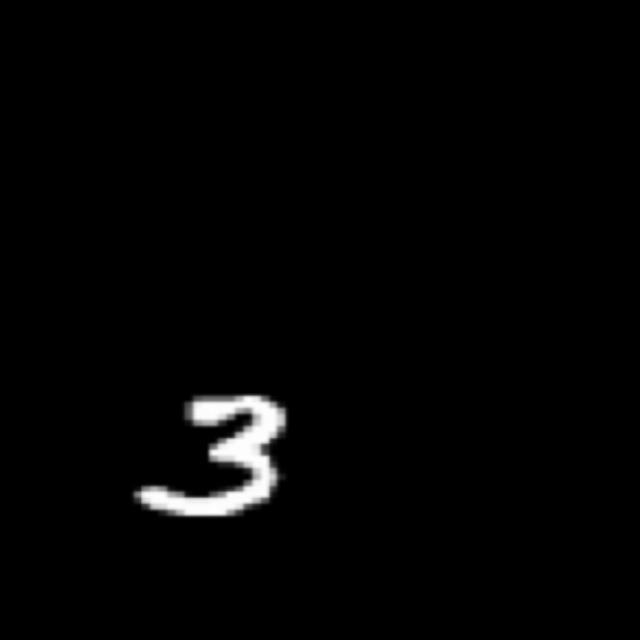three -3-: (127, 388, 300, 524)
